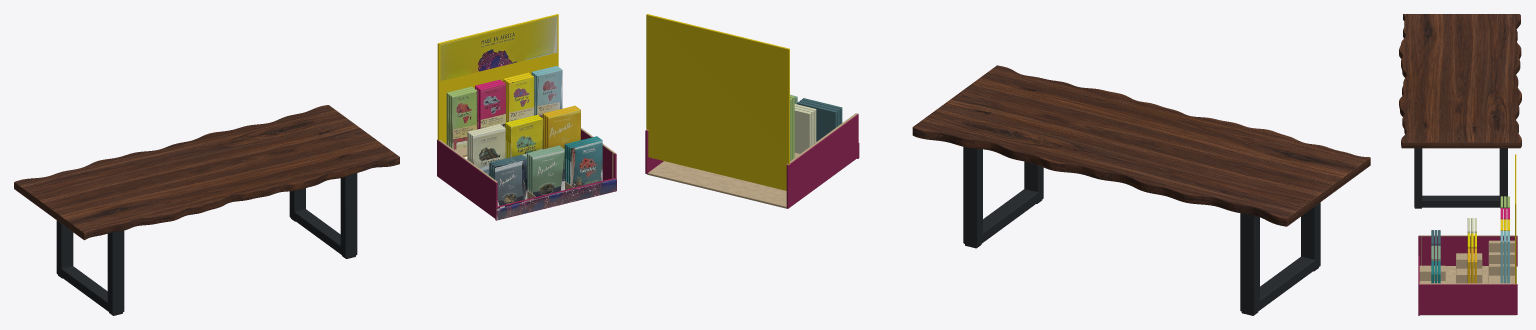
The model's file is medtropic_showroom.glb.
The picture shows the model from 3 angles, left to right: view 1: azimuth 30°, elevation 25°; view 2: azimuth 150°, elevation 25°; view 3: azimuth 270°, elevation 25°; orthographic projection. The views are drawn at different scales.
Visible parts, largest first — view 1: ENCHI | live-edge table • estimated metric dimensions, FAIRAFRIC | enlarged photo-derived cardboard display; view 2: ENCHI | live-edge table • estimated metric dimensions, FAIRAFRIC | enlarged photo-derived cardboard display; view 3: ENCHI | live-edge table • estimated metric dimensions, FAIRAFRIC | enlarged photo-derived cardboard display.
Boxes of the visible parts, <box> form: ENCHI | live-edge table • estimated metric dimensions: <box>14,105,399,315</box>; FAIRAFRIC | enlarged photo-derived cardboard display: <box>437,14,616,220</box>; ENCHI | live-edge table • estimated metric dimensions: <box>912,65,1370,315</box>; FAIRAFRIC | enlarged photo-derived cardboard display: <box>645,14,859,208</box>; ENCHI | live-edge table • estimated metric dimensions: <box>1399,14,1521,208</box>; FAIRAFRIC | enlarged photo-derived cardboard display: <box>1418,154,1517,315</box>.
Size of the model in its own units: 4.47 by 1.06 by 1.05.
Materials: 19 (4 with a texture image).
